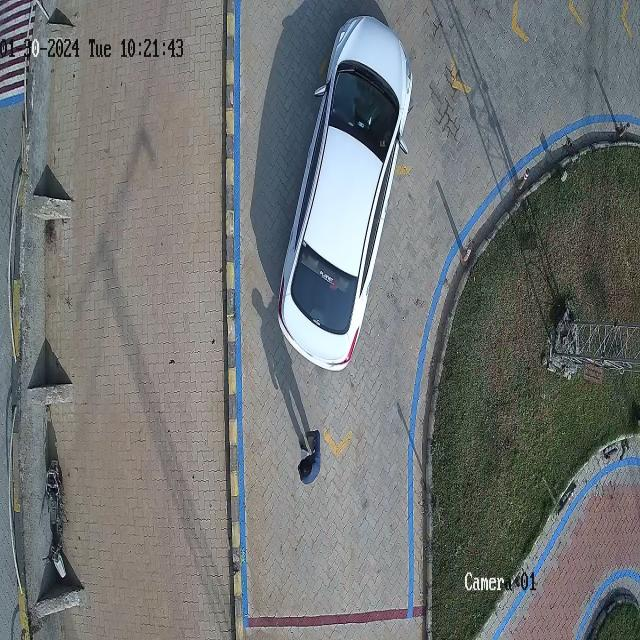car: (279, 16, 412, 369)
